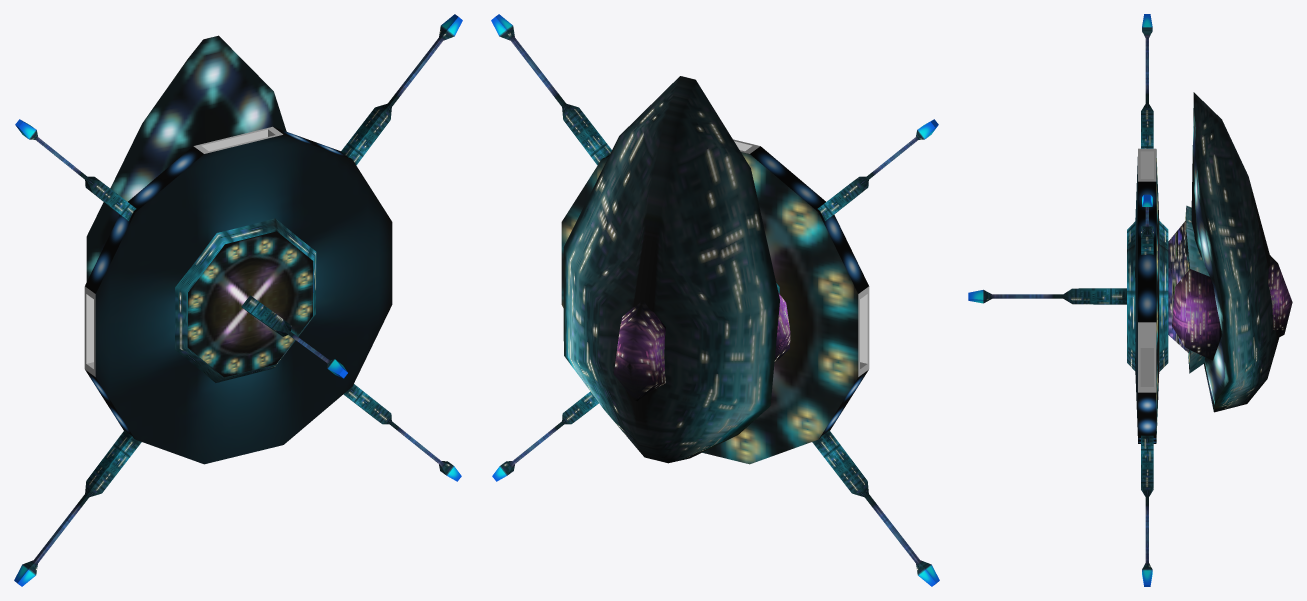
3 views of the same model, side by side, from view 1: azimuth 30°, elevation 25°; view 2: azimuth 150°, elevation 25°; view 3: azimuth 270°, elevation 25° (orthographic). The views are drawn at different scales.
Parts seen in each view (by area): view 1: frm-platfrm1, frm-platfrm2, frm-fuselg1, frm-corrdr2_14, frm-corrdr2_12, frm-corrdr2_10, frm-corrdr2_1, frm-corrdr2_16; view 2: frm-fuselg1, frm-platfrm1, frm-contwr1, frm-corrdr2_14, frm-corrdr2_12, frm-corrdr2_10, frm-corrdr2_1, frm-bmerge3; view 3: frm-fuselg1, frm-platfrm1, frm-bmerge3, frm-corrdr2_16, frm-fuselg4, frm-fuselg3, frm-platfrm2, frm-corrdr2_1, frm-contwr1, frm-corrdr2_10, frm-corrdr2_12.
Boxes of the visible parts, bbox=[...] form: frm-platfrm1: bbox=[84, 126, 392, 464]; frm-platfrm2: bbox=[174, 218, 316, 382]; frm-fuselg1: bbox=[86, 35, 286, 281]; frm-corrdr2_14: bbox=[14, 430, 141, 586]; frm-corrdr2_12: bbox=[341, 14, 462, 165]; frm-corrdr2_10: bbox=[15, 119, 136, 220]; frm-corrdr2_1: bbox=[343, 384, 461, 481]; frm-corrdr2_16: bbox=[241, 295, 347, 378]; frm-fuselg1: bbox=[563, 76, 779, 463]; frm-platfrm1: bbox=[561, 139, 869, 464]; frm-contwr1: bbox=[613, 299, 665, 401]; frm-corrdr2_14: bbox=[812, 430, 939, 586]; frm-corrdr2_12: bbox=[491, 14, 611, 165]; frm-corrdr2_10: bbox=[817, 119, 938, 220]; frm-corrdr2_1: bbox=[492, 391, 598, 481]; frm-bmerge3: bbox=[774, 292, 790, 362]; frm-fuselg1: bbox=[1191, 92, 1279, 412]; frm-platfrm1: bbox=[1135, 148, 1159, 443]; frm-bmerge3: bbox=[1172, 205, 1221, 373]; frm-corrdr2_16: bbox=[968, 288, 1126, 304]; frm-fuselg4: bbox=[1159, 221, 1168, 371]; frm-fuselg3: bbox=[1168, 221, 1188, 353]; frm-platfrm2: bbox=[1127, 221, 1135, 370]; frm-corrdr2_1: bbox=[1141, 435, 1153, 586]; frm-contwr1: bbox=[1268, 255, 1292, 336]; frm-corrdr2_10: bbox=[1141, 14, 1153, 148]; frm-corrdr2_12: bbox=[1141, 194, 1153, 254].
Size of the model in its own units: 130 by 133 by 97.09.
